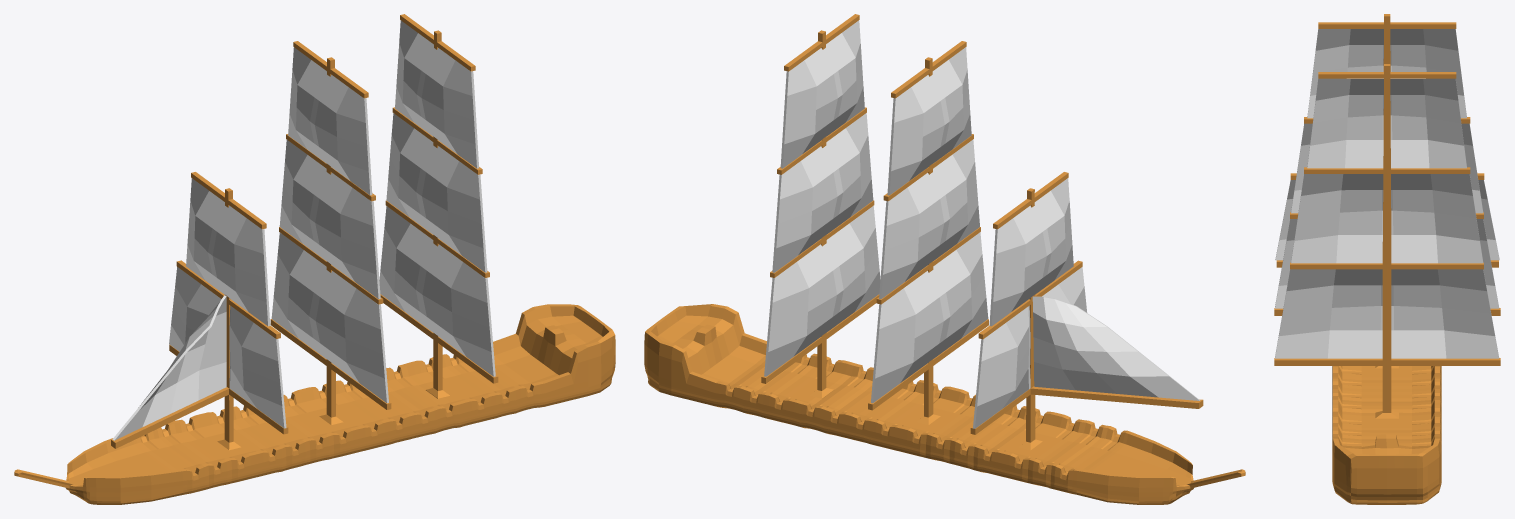
The model's file is frigate.glb.
3 renders of one model, left to right at view 1: azimuth 30°, elevation 25°; view 2: azimuth 150°, elevation 25°; view 3: azimuth 270°, elevation 25°, orthographic. The views are drawn at different scales.
Parts seen in each view (by area): view 1: Cube; view 2: Cube; view 3: Cube.
Boxes of the visible parts, box(x1,y1,x2,y2) form: Cube: box(14, 14, 615, 504); Cube: box(644, 14, 1245, 504); Cube: box(1274, 14, 1500, 504).
Bounding box in the file's own units: 47.19 × 29.57 × 16.29.
